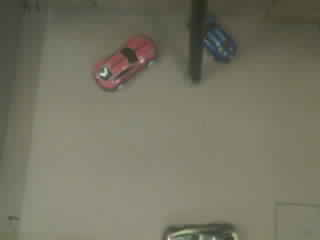Car: (94, 35, 156, 89), (203, 15, 236, 62), (164, 223, 238, 239)
